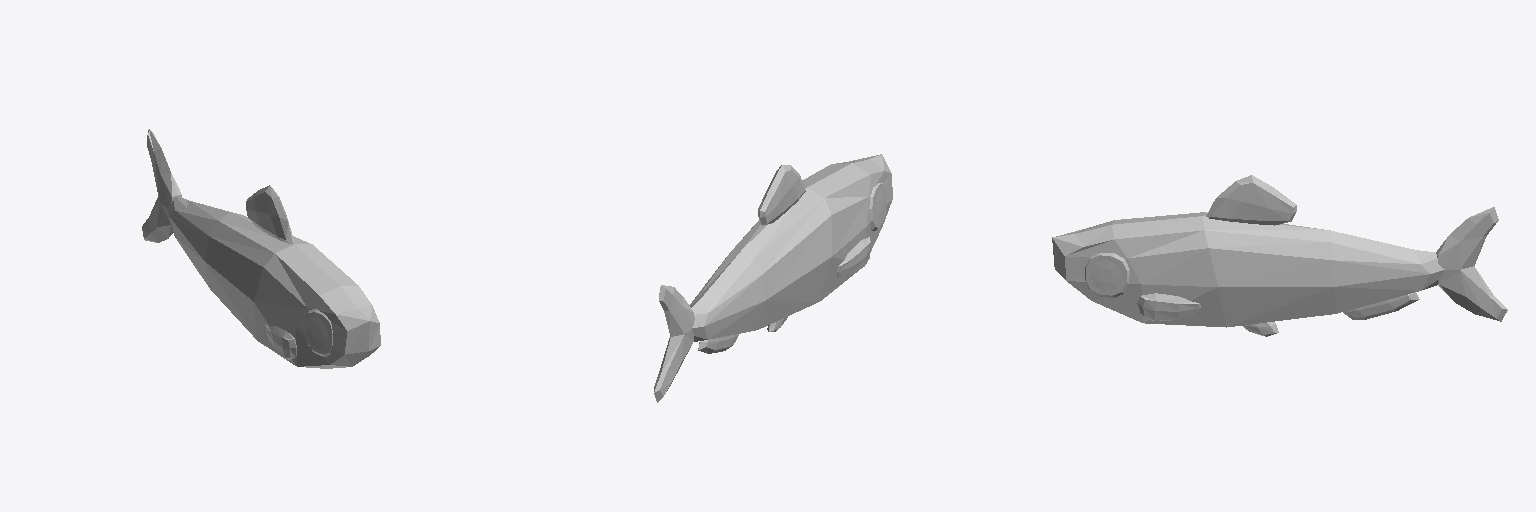
Rendered from Herring_LOD2.obj.
3 renders of one model, left to right at view 1: azimuth 30°, elevation 25°; view 2: azimuth 150°, elevation 25°; view 3: azimuth 270°, elevation 25°, orthographic.
Visible parts, largest first — view 1: Mesh_Herring_LOD2; view 2: Mesh_Herring_LOD2; view 3: Mesh_Herring_LOD2.
Part boxes in pixels (x1,y1,x2,y2): Mesh_Herring_LOD2: (142, 129, 380, 368); Mesh_Herring_LOD2: (654, 154, 892, 402); Mesh_Herring_LOD2: (1052, 175, 1507, 336).
Size of the model in its own units: 0.2 by 0.4333 by 1.1.